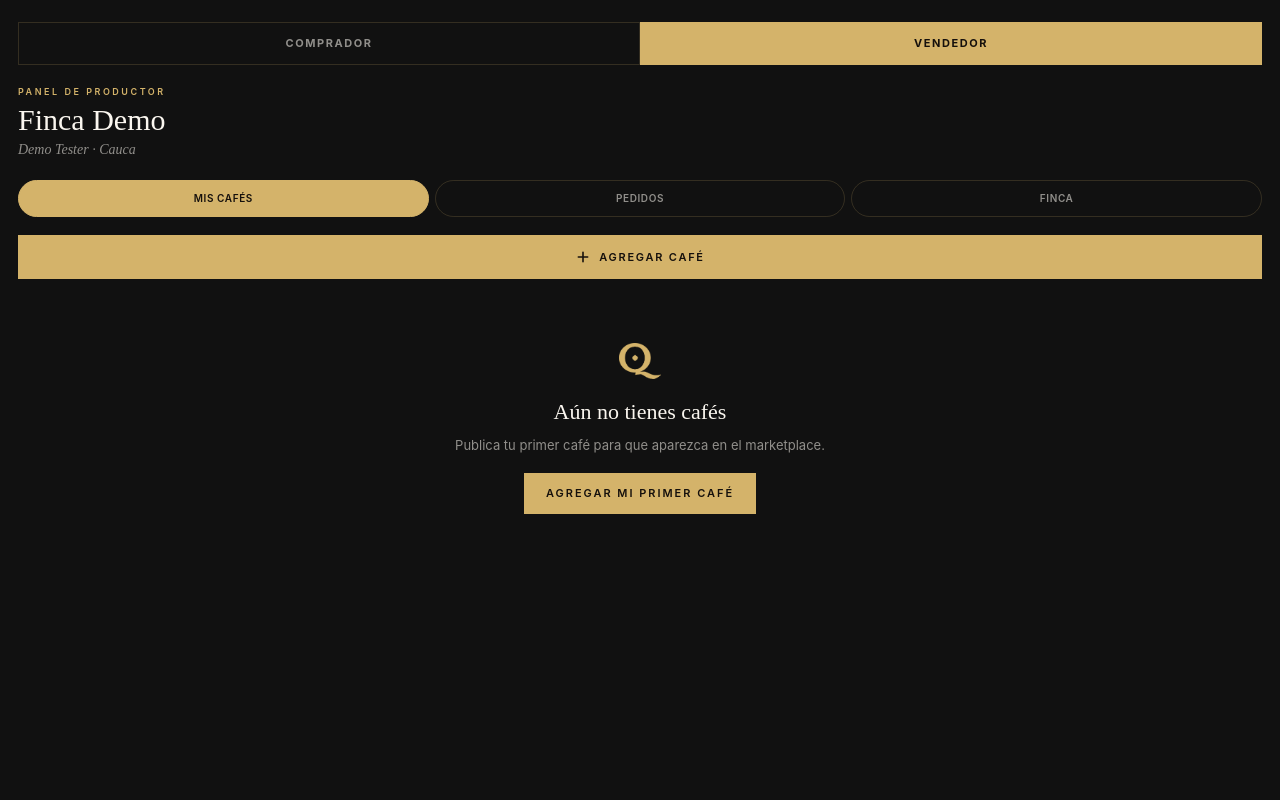
Test case: ProfileScreen › permite cambiar al modo Comprador
Click the button "Comprador". click: (329, 43)
box: [18, 22, 640, 64]
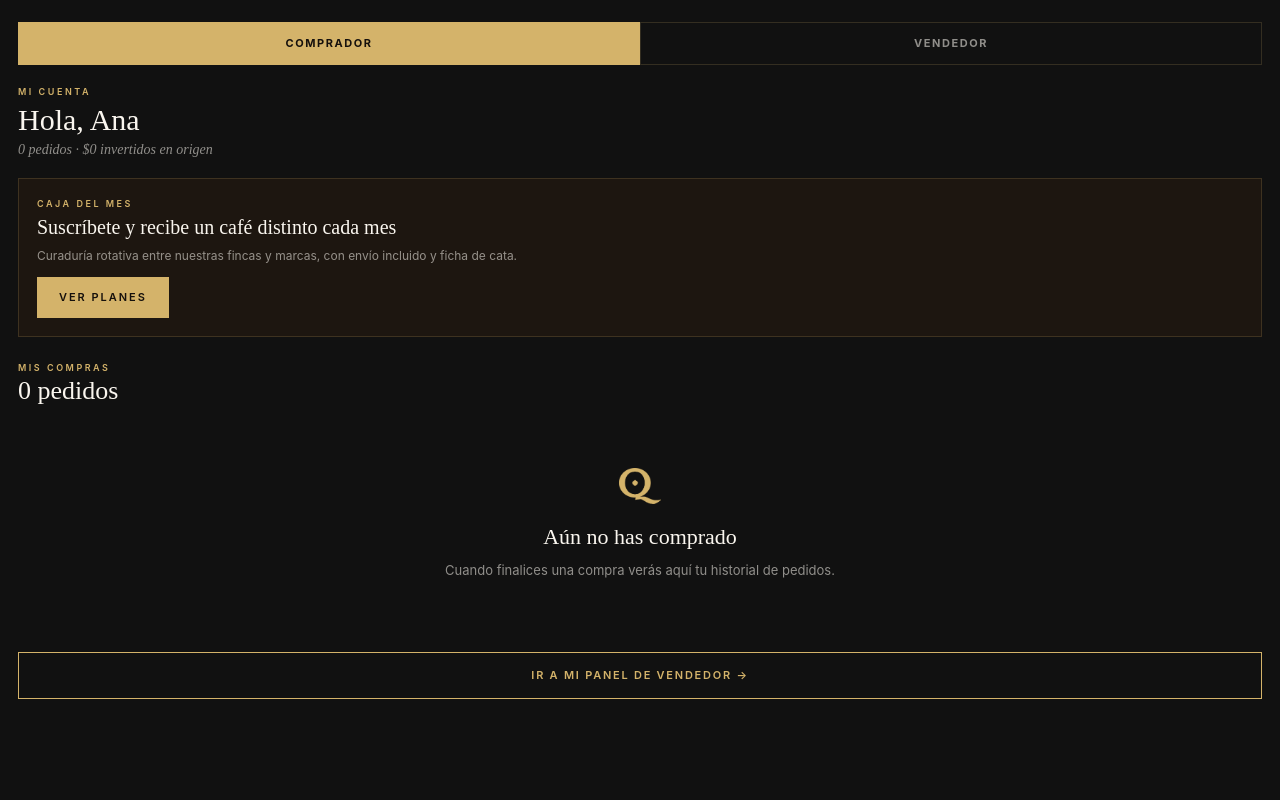
Expected: the heading "Hola, Ana" is shown, [18, 103, 140, 136]
Expected: the button "IR A MI PANEL DE VENDEDOR →" is shown, [18, 652, 1262, 699]
